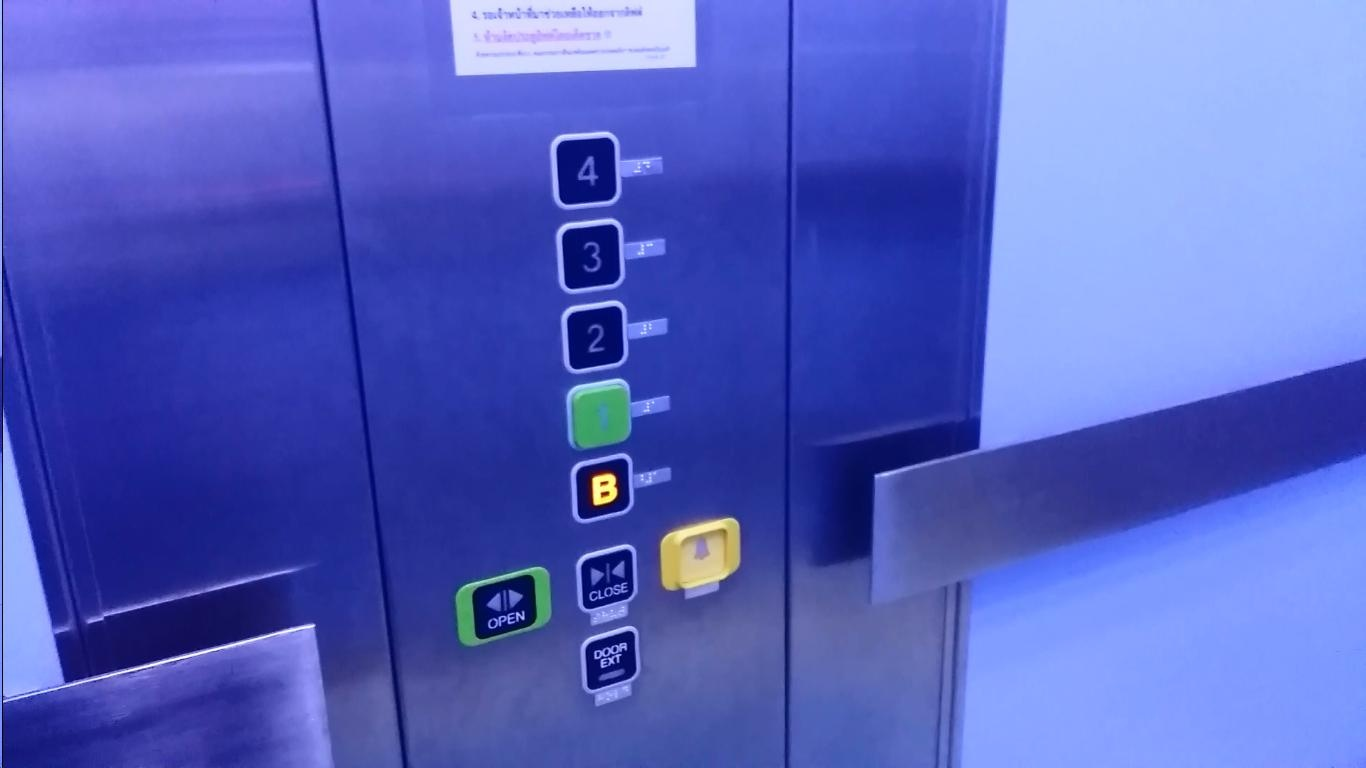1: (564, 376, 636, 451)
2: (558, 300, 634, 377)
3: (553, 211, 629, 300)
4: (543, 127, 626, 213)
B: (566, 452, 638, 526)
alarm: (657, 514, 745, 597)
close: (570, 539, 643, 615)
open: (451, 561, 554, 650)
text: (576, 619, 647, 697)
